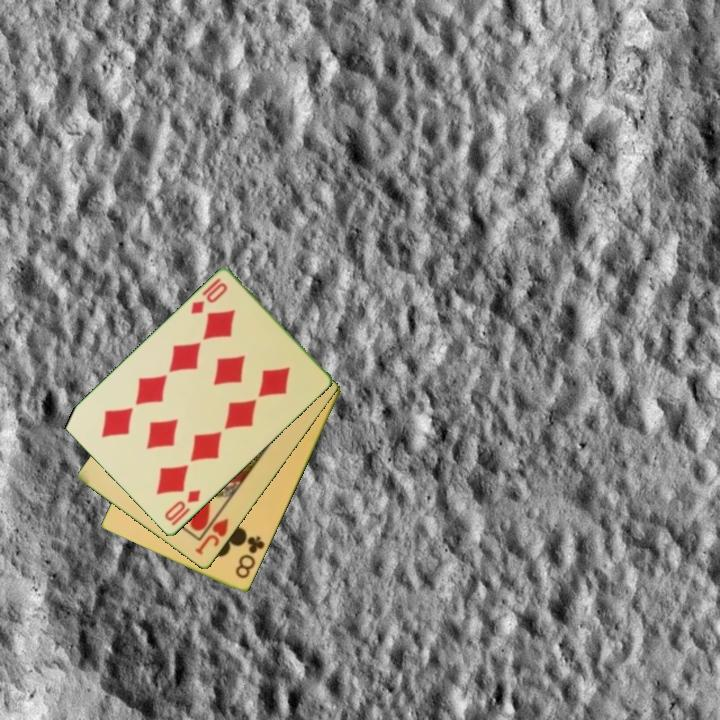10d: (187, 274, 230, 318), (161, 486, 204, 529)
8c: (232, 532, 268, 582)
Jh: (191, 515, 232, 558)
